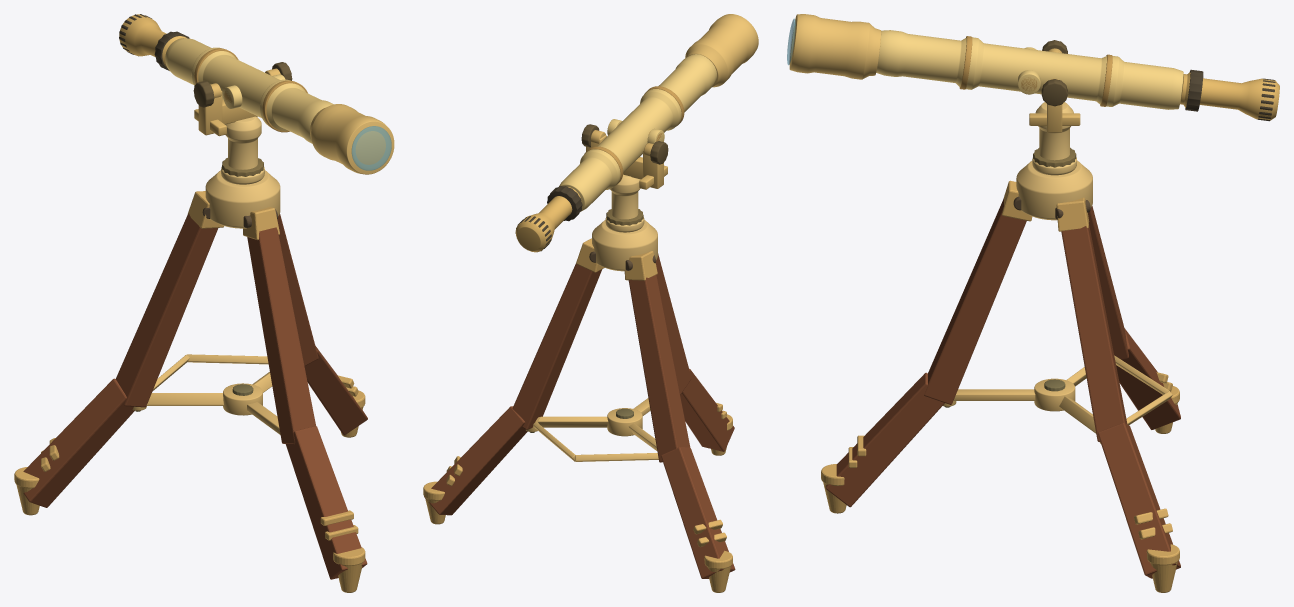
3 views of the same model, side by side, from view 1: azimuth 30°, elevation 25°; view 2: azimuth 150°, elevation 25°; view 3: azimuth 270°, elevation 25° (orthographic). The views are drawn at different scales.
Visible parts, largest first — view 1: TripodLeg_2, TripodLeg_1, MainTelescopeTube, TripodLeg_0, ObjectiveLensAssembly, TripodSpreader, TripodHub, AzimuthColumn, AltitudeCradle, EyepieceAssembly; view 2: TripodLeg_1, TripodLeg_0, MainTelescopeTube, TripodLeg_2, TripodSpreader, ObjectiveLensAssembly, EyepieceAssembly, TripodHub, AltitudeCradle, AzimuthColumn; view 3: MainTelescopeTube, TripodLeg_0, TripodLeg_2, ObjectiveLensAssembly, TripodLeg_1, TripodSpreader, EyepieceAssembly, TripodHub, AzimuthColumn, AltitudeCradle.
Boxes of the visible parts, x1,y1,x2,y2 form: TripodLeg_2: [243, 207, 367, 592]; TripodLeg_1: [14, 191, 223, 515]; MainTelescopeTube: [165, 38, 333, 143]; TripodLeg_0: [277, 214, 367, 437]; ObjectiveLensAssembly: [310, 104, 394, 174]; TripodSpreader: [132, 354, 280, 434]; TripodHub: [205, 170, 280, 228]; AzimuthColumn: [221, 116, 264, 184]; AltitudeCradle: [193, 62, 292, 136]; EyepieceAssembly: [119, 14, 189, 70]; TripodLeg_1: [624, 251, 735, 592]; TripodLeg_0: [423, 238, 604, 524]; MainTelescopeTube: [559, 54, 716, 211]; TripodLeg_2: [656, 253, 734, 455]; TripodSpreader: [526, 398, 658, 461]; ObjectiveLensAssembly: [685, 14, 758, 87]; EyepieceAssembly: [515, 185, 582, 252]; TripodHub: [592, 220, 657, 271]; AltitudeCradle: [581, 124, 668, 189]; AzimuthColumn: [605, 174, 644, 232]; MainTelescopeTube: [876, 30, 1183, 109]; TripodLeg_0: [1055, 197, 1180, 592]; TripodLeg_2: [821, 180, 1032, 513]; ObjectiveLensAssembly: [787, 14, 881, 79]; TripodLeg_1: [1088, 206, 1180, 433]; TripodSpreader: [943, 355, 1172, 443]; EyepieceAssembly: [1180, 69, 1279, 121]; TripodHub: [1016, 160, 1092, 220]; AzimuthColumn: [1032, 102, 1076, 175]; AltitudeCradle: [1029, 40, 1080, 132].
Size of the model in its own units: 0.3204 by 0.4268 by 0.3858.
